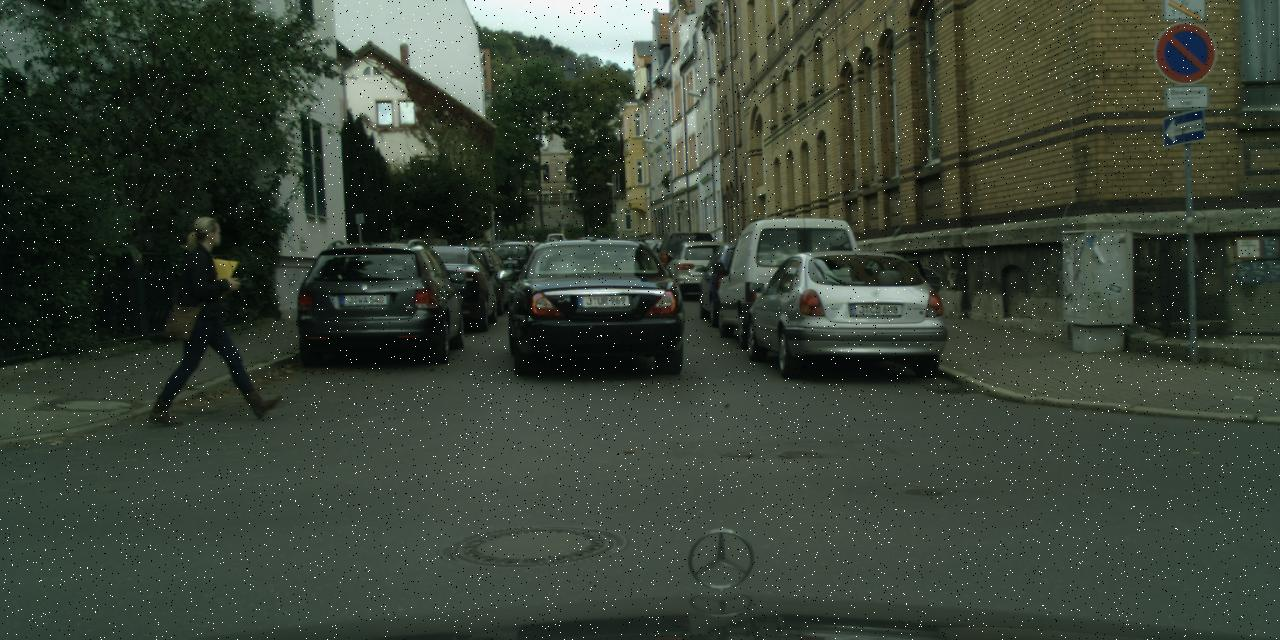ped: (169, 215, 254, 421)
